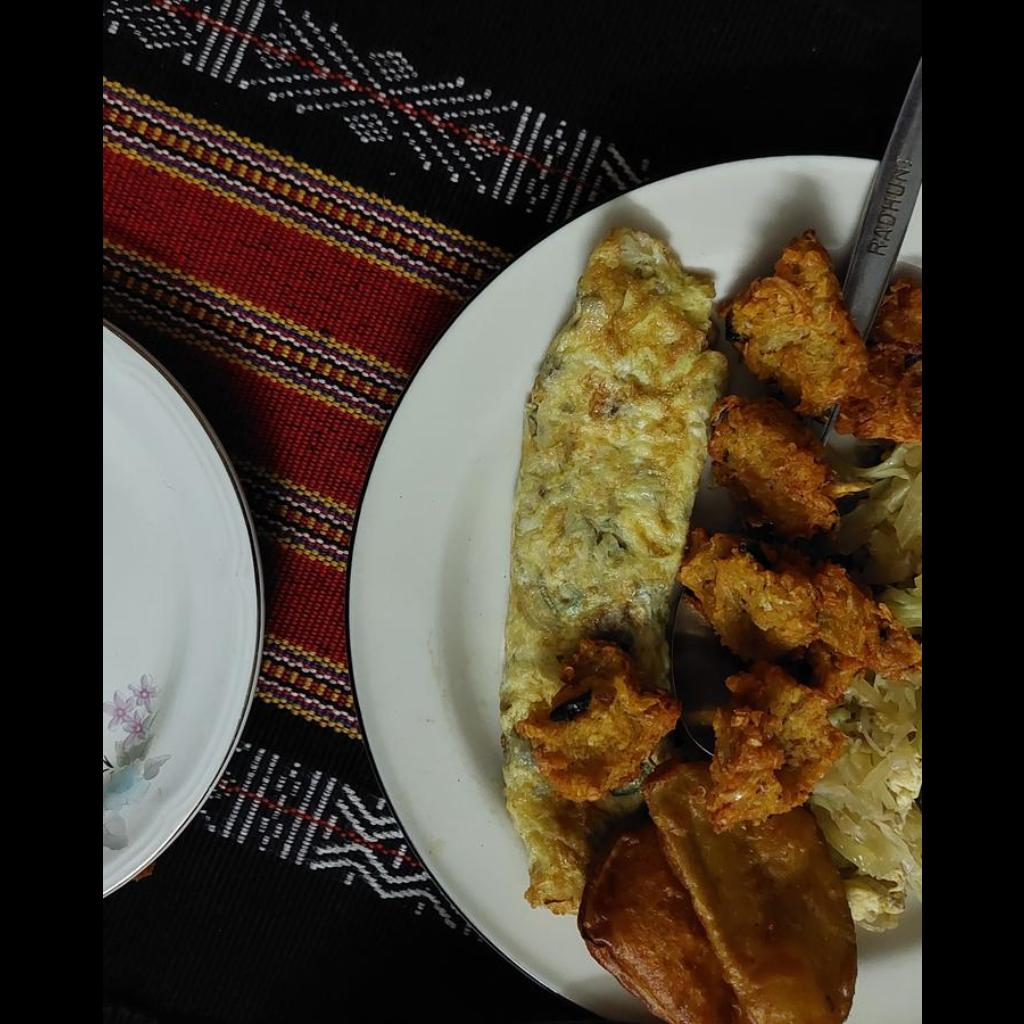beguni: (576, 763, 857, 1023)
egg-poached: (497, 232, 731, 909)
piyaju: (696, 239, 920, 819), (515, 641, 678, 801)
vaji: (809, 671, 920, 932), (830, 441, 920, 641)
